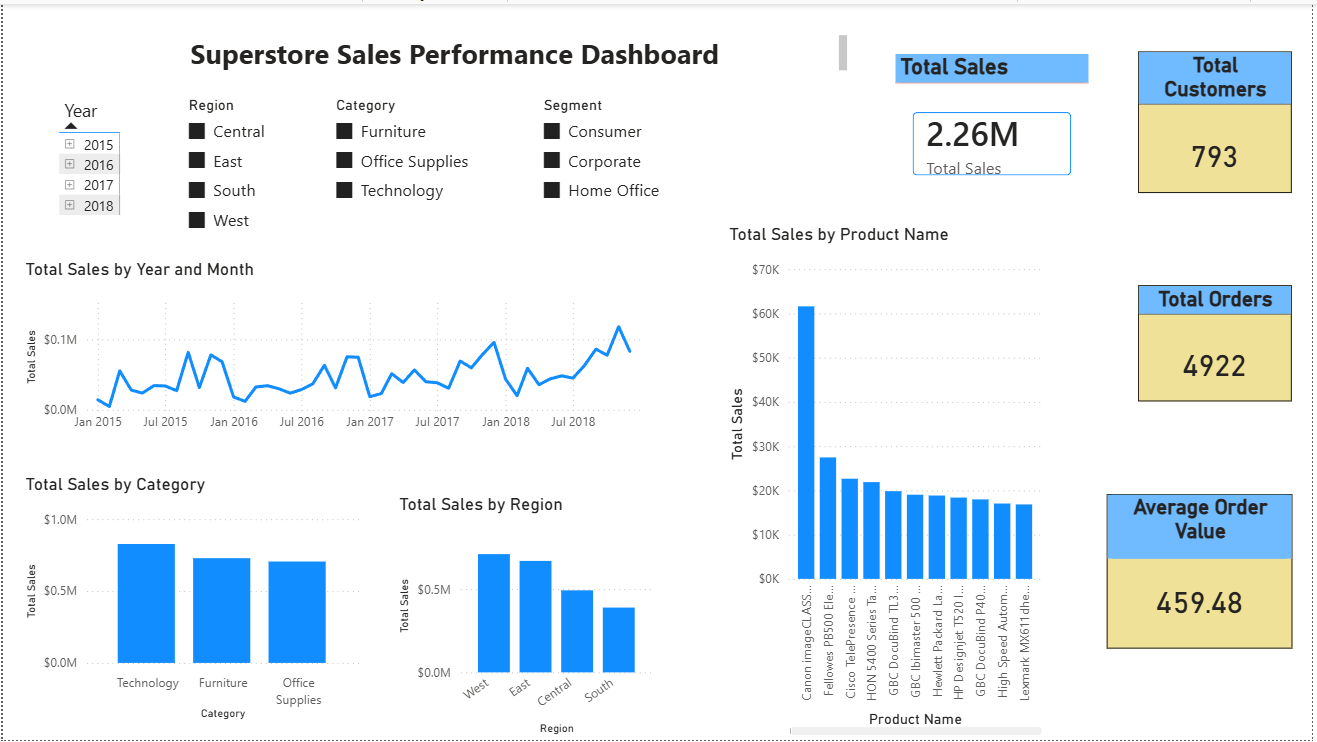

This screenshot's page, from the dashboard's own definition file:
{"tool":"powerbi","page":{"name":"Page 1 -Sales Performance","canvas":[1280,720],"ordinal":0},"visuals":[{"type":"cardVisual","title":"Total Sales","fields":{"Data":["train.Total Sales"]},"box":[872.9,49.1,189,135.6],"z":0},{"type":"slicer","fields":{"Values":["train.Region"]},"box":[168.8,85.1,132.3,152.2],"z":1000},{"type":"slicer","fields":{"Values":["train.Category"]},"box":[313.1,85.1,156.4,123.7],"z":2000},{"type":"slicer","fields":{"Values":["train.Segment"]},"box":[516.5,85.1,146.5,152.2],"z":3000},{"type":"pivotTable","title":"Year","fields":{"Rows":["train.Order Date.Variation.Date Hierarchy.Year","train.Order Date.Variation.Date Hierarchy.Quarter","train.Order Date.Variation.Date Hierarchy.Month","train.Order Date.Variation.Date Hierarchy.Day"]},"box":[50.5,85.1,86.8,142.2],"z":4000},{"type":"card","title":"Total Orders","fields":{"Values":["train.Total Orders"]},"box":[1110.9,275.6,150,114],"z":5000},{"type":"card","title":"Total Customers","fields":{"Values":["train.Total Customers"]},"box":[1110.9,46.2,150,138.5],"z":6000},{"type":"card","title":"Average Order Value","fields":{"Values":["train.Average Order Value"]},"box":[1079.2,479,181.8,151.5],"z":7000},{"type":"lineChart","fields":{"Category":["train.Order Date.Variation.Date Hierarchy.Year","train.Order Date.Variation.Date Hierarchy.Month"],"Y":["train.Total Sales"]},"box":[17.3,249.6,623.3,177.5],"z":8000},{"type":"columnChart","fields":{"Category":["train.Category"],"Y":["train.Total Sales"]},"box":[17.3,460.2,336.4,245.6],"z":9000},{"type":"columnChart","fields":{"Y":["train.Total Sales"],"Category":["train.Region"]},"box":[382.3,479,258.1,240.3],"z":10000},{"type":"columnChart","fields":{"Category":["train.Product Name"],"Y":["train.Total Sales"]},"box":[705.5,215,316,505],"z":11000},{"type":"textbox","box":[178.9,26,652.1,44.7],"z":12000}]}

Visuals, with their boxes in screenshot pixels (x1, y1, x2, y2), scaled from the page's 1280x720 canvas onto the 1317x742 screenshot:
"Total Sales" cardVisual: [x1=898, y1=51, x2=1093, y2=190]
slicer - train.Region: [x1=174, y1=88, x2=310, y2=245]
slicer - train.Category: [x1=322, y1=88, x2=483, y2=215]
slicer - train.Segment: [x1=531, y1=88, x2=682, y2=245]
"Year" pivotTable: [x1=52, y1=88, x2=141, y2=234]
"Total Orders" card: [x1=1143, y1=284, x2=1297, y2=402]
"Total Customers" card: [x1=1143, y1=48, x2=1297, y2=190]
"Average Order Value" card: [x1=1110, y1=494, x2=1297, y2=650]
lineChart - train.Order Date.Variation.Date Hierarchy.Year x train.Order Date.Variation.Date Hierarchy.Month: [x1=18, y1=257, x2=659, y2=440]
columnChart - train.Category x train.Total Sales: [x1=18, y1=474, x2=364, y2=727]
columnChart - train.Total Sales x train.Region: [x1=393, y1=494, x2=659, y2=741]
columnChart - train.Product Name x train.Total Sales: [x1=726, y1=222, x2=1051, y2=741]
textbox: [x1=184, y1=27, x2=855, y2=73]
